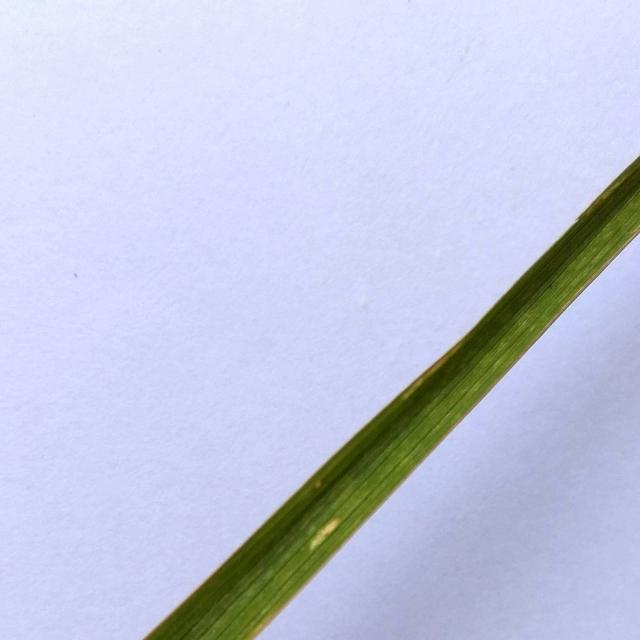Blast: (307, 519, 338, 550)
